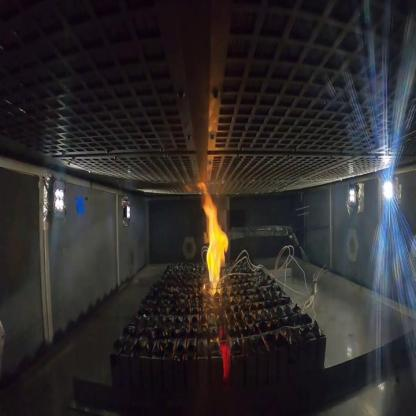fire: (193, 180, 232, 298)
